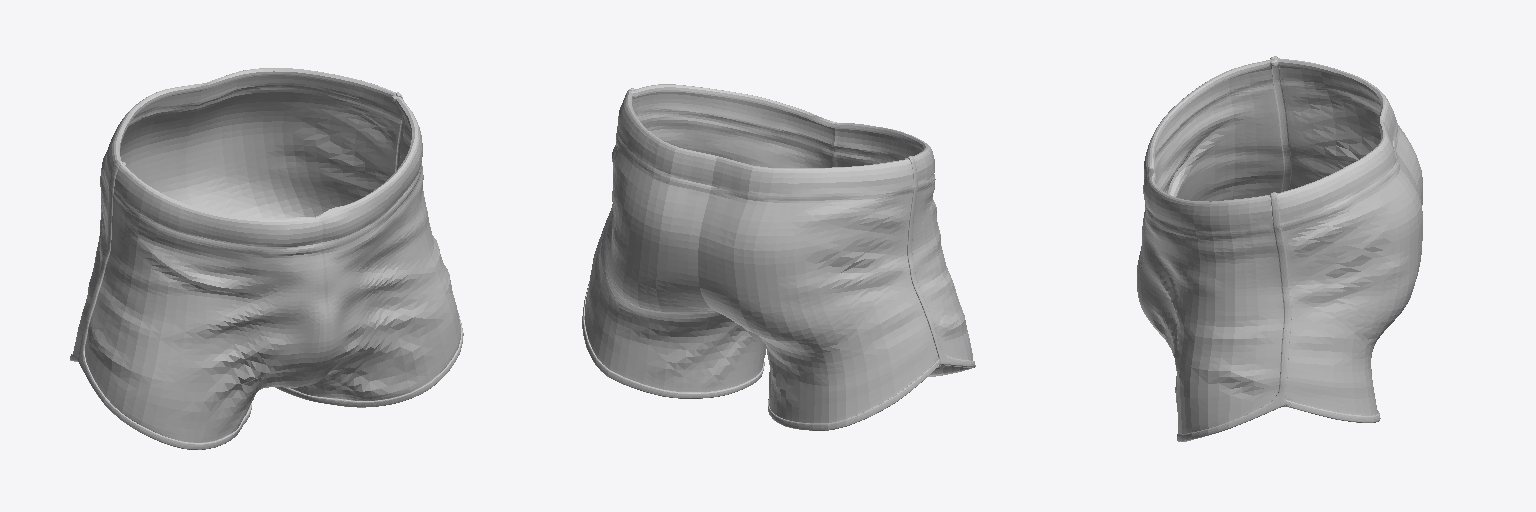
The model's file is WorkoutShorts_subD2.OBJ.
3 renders of one model, left to right at view 1: azimuth 30°, elevation 25°; view 2: azimuth 150°, elevation 25°; view 3: azimuth 270°, elevation 25°, orthographic.
Parts seen in each view (by area): view 1: ZBrushPolyMesh3D; view 2: ZBrushPolyMesh3D; view 3: ZBrushPolyMesh3D.
Part boxes in pixels (x1,y1,x2,y2): ZBrushPolyMesh3D: (70, 68, 463, 449); ZBrushPolyMesh3D: (582, 84, 975, 430); ZBrushPolyMesh3D: (1137, 56, 1422, 441).
Size of the model in its own units: 43.82 by 32.27 by 30.41.